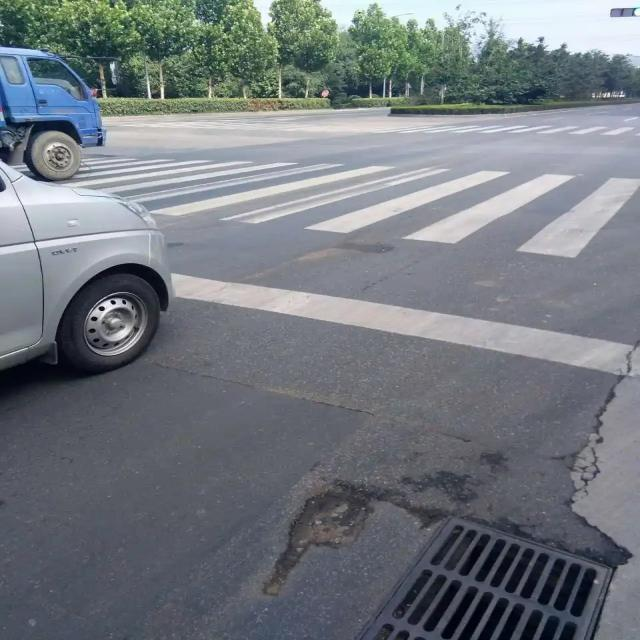Pothole: (262, 485, 369, 600)
